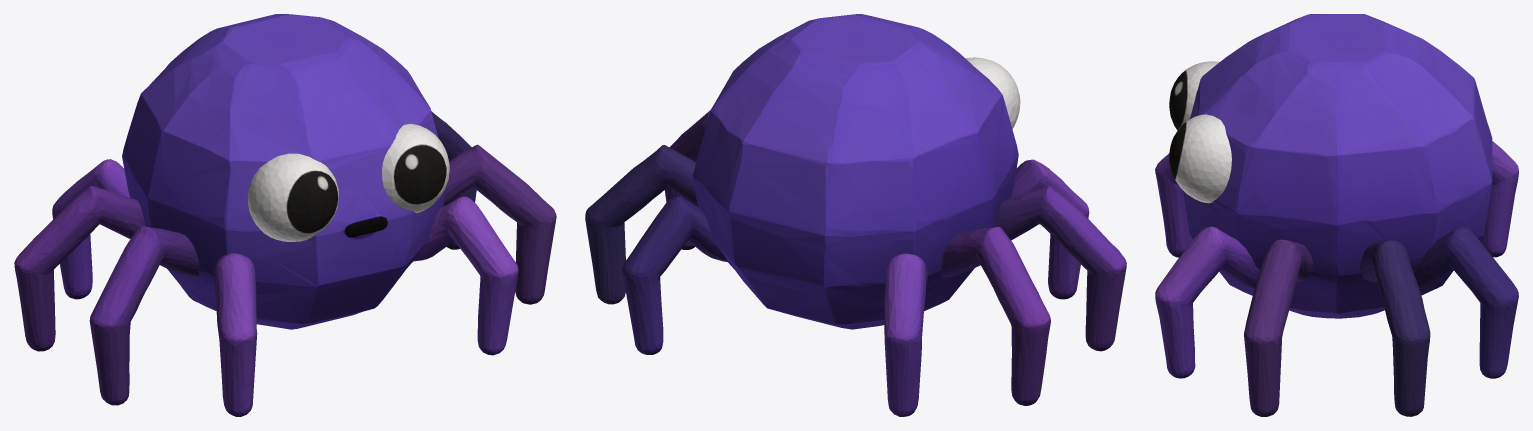
Rendered from spider.glb.
3 views of the same model, side by side, from view 1: azimuth 30°, elevation 25°; view 2: azimuth 150°, elevation 25°; view 3: azimuth 270°, elevation 25° (orthographic). The views are drawn at different scales.
Visible parts, largest first — view 1: Spider_body, Spider_legs, Spider_eyes; view 2: Spider_body, Spider_legs, Spider_eyes; view 3: Spider_body, Spider_legs, Spider_eyes.
Part boxes in pixels (<box>): Spider_body: <box>122,14,447,329</box>; Spider_legs: <box>14,111,556,416</box>; Spider_eyes: <box>247,123,449,241</box>; Spider_body: <box>692,14,1018,329</box>; Spider_legs: <box>585,110,1126,416</box>; Spider_eyes: <box>965,57,1020,128</box>; Spider_body: <box>1182,14,1492,318</box>; Spider_legs: <box>1155,141,1518,416</box>; Spider_eyes: <box>1169,61,1231,203</box>.
Size of the model in its own units: 6.72 by 4 by 4.71.
Materials: 3 (3 with a texture image).
